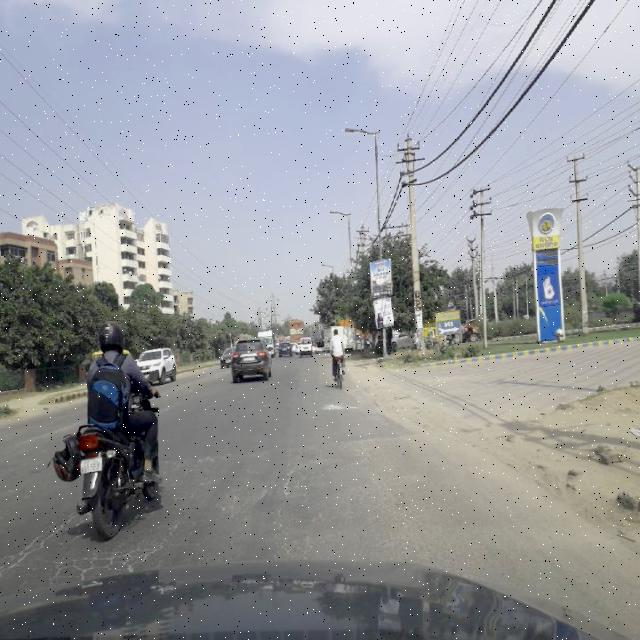D20: (29, 542, 159, 580)
